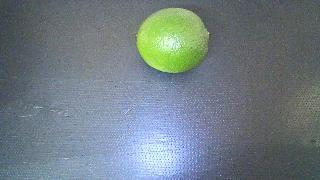EXPORTACION: (136, 8, 210, 73)
